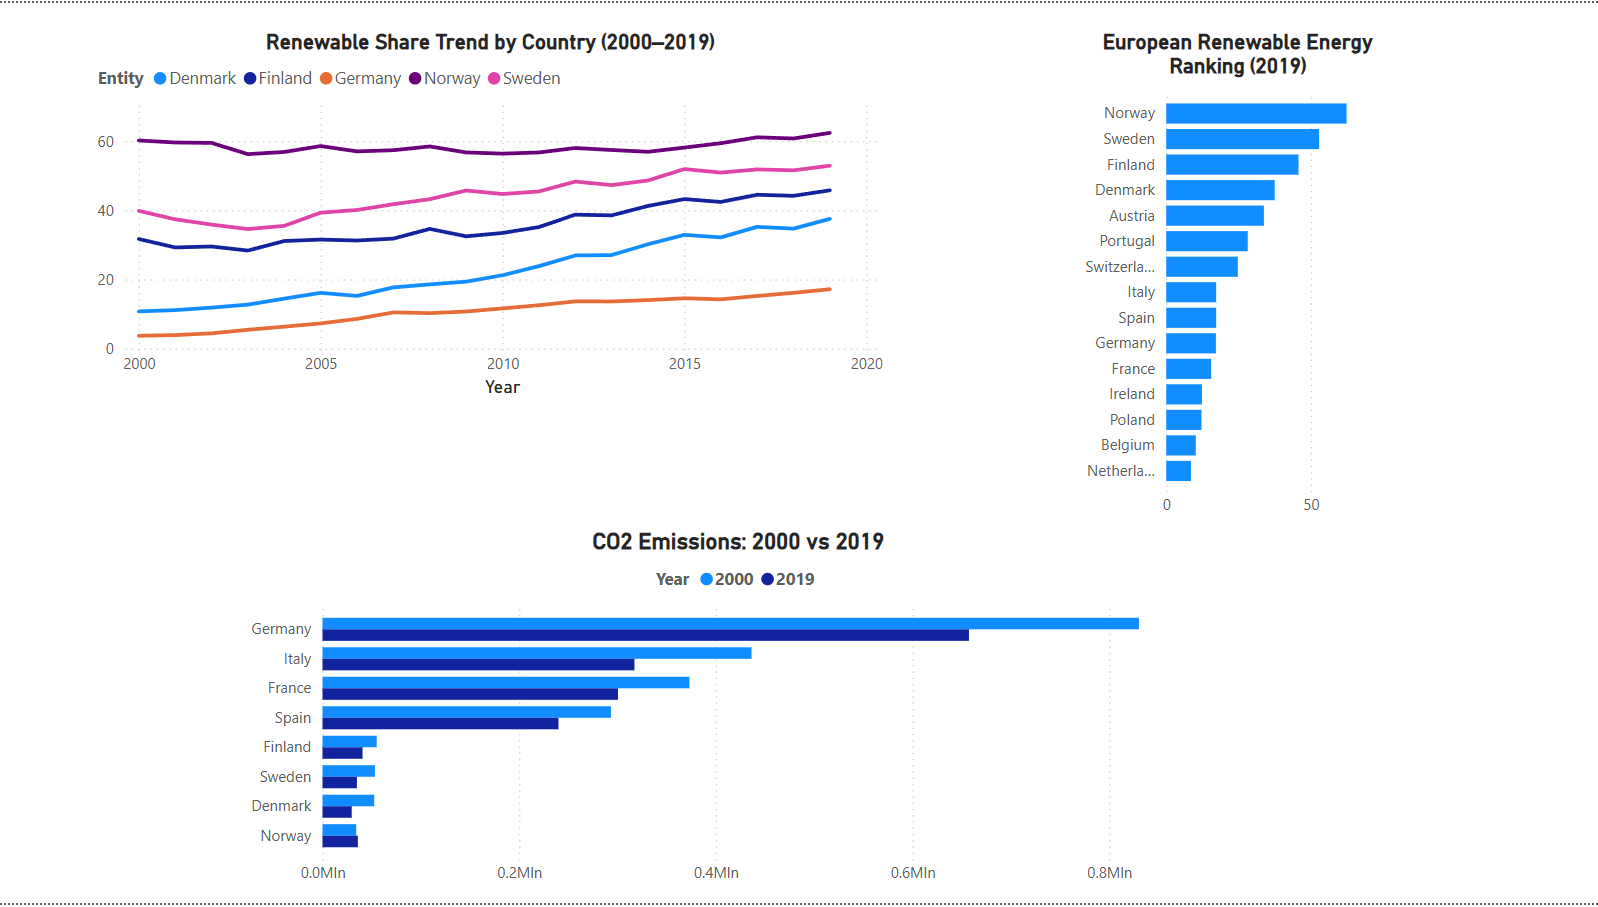

The dashboard page shown, as its layout file describes it:
{"tool":"powerbi","page":{"name":"European Comparison","canvas":[1280,720],"ordinal":2},"visuals":[{"type":"clusteredBarChart","title":"European Renewable Energy Ranking (2019)","fields":{"Category":["sustainable_energy.Entity"],"Y":["Avg(sustainable_energy.Renewable_energy_share_in_the_total_final_energy_consumption)"]},"box":[850.9,20.9,280,399.1],"z":0},{"type":"lineChart","title":"Renewable Share Trend by Country (2000–2019)","fields":{"Category":["sustainable_energy.Year"],"Y":["Avg(sustainable_energy.Renewable_energy_share_in_the_total_final_energy_consumption)"],"Series":["sustainable_energy.Entity"]},"box":[73.6,20.9,638.2,300],"z":1000},{"type":"clusteredBarChart","title":"CO2 Emissions: 2000 vs 2019","fields":{"Category":["sustainable_energy.Entity"],"Y":["Sum(sustainable_energy.Value_co2_emissions_kt_by_country)"],"Series":["sustainable_energy.Year"]},"box":[191.8,420,799.1,294.5],"z":2000}]}

Visuals, with their boxes in screenshot pixels (x1, y1, x2, y2), scaled from the page's 1280x720 canvas onto the 1598x907 screenshot:
"European Renewable Energy Ranking (2019)" clusteredBarChart: (1062, 26, 1412, 529)
"Renewable Share Trend by Country (2000–2019)" lineChart: (92, 26, 889, 404)
"CO2 Emissions: 2000 vs 2019" clusteredBarChart: (239, 529, 1237, 900)
